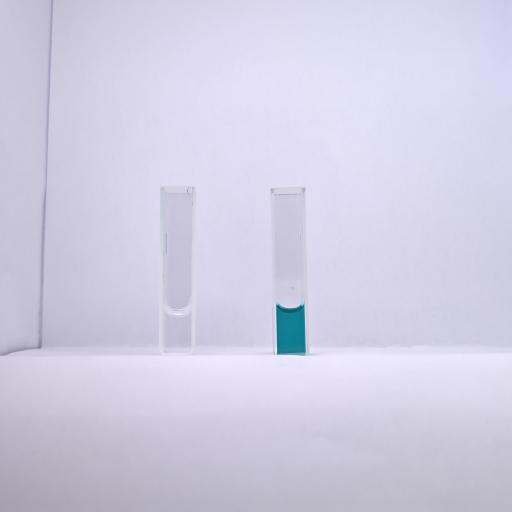cuvette: (270, 185, 310, 358), (159, 184, 198, 358)
liquid: (277, 306, 305, 355), (164, 308, 191, 352)
